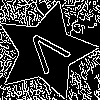V: (21, 26, 78, 83)
